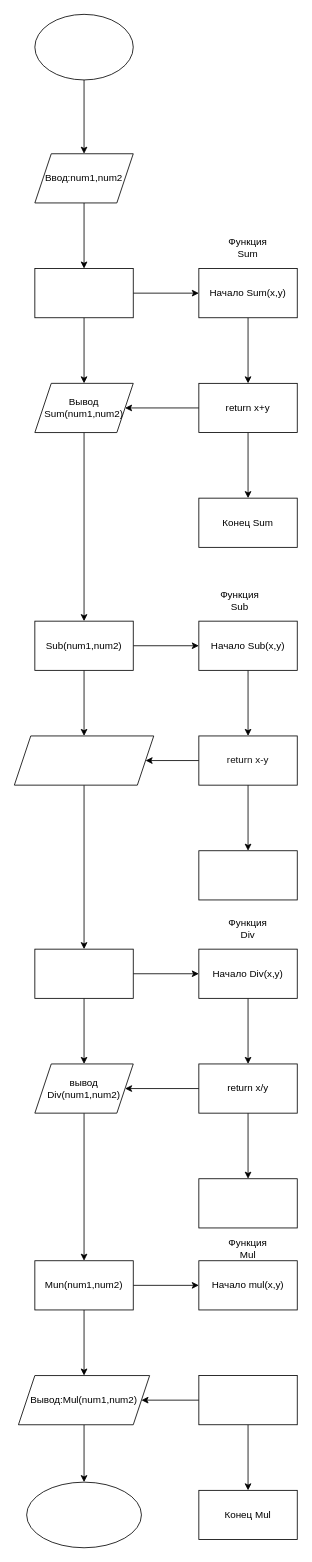
This 312x1562 diagram has some shape labels left out. The shapes that lost their labels are listed below. From the top down, each one's centre as x and y in pixels, then its label:
At [83,47]: "Начало".
At [83,293]: "Sum(num1,num2)".
At [84,760]: "Вывод:Sub(num1,num2)".
At [247,875]: "конец Sub".
At [83,973]: "Div(num1,num2)".
At [247,1203]: "конец Div".
At [247,1400]: "return x*y".
At [83,1514]: "Конец".
